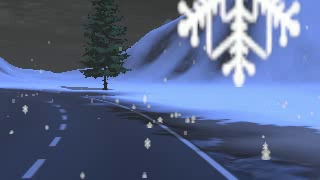Lane: (0, 88, 240, 179)
